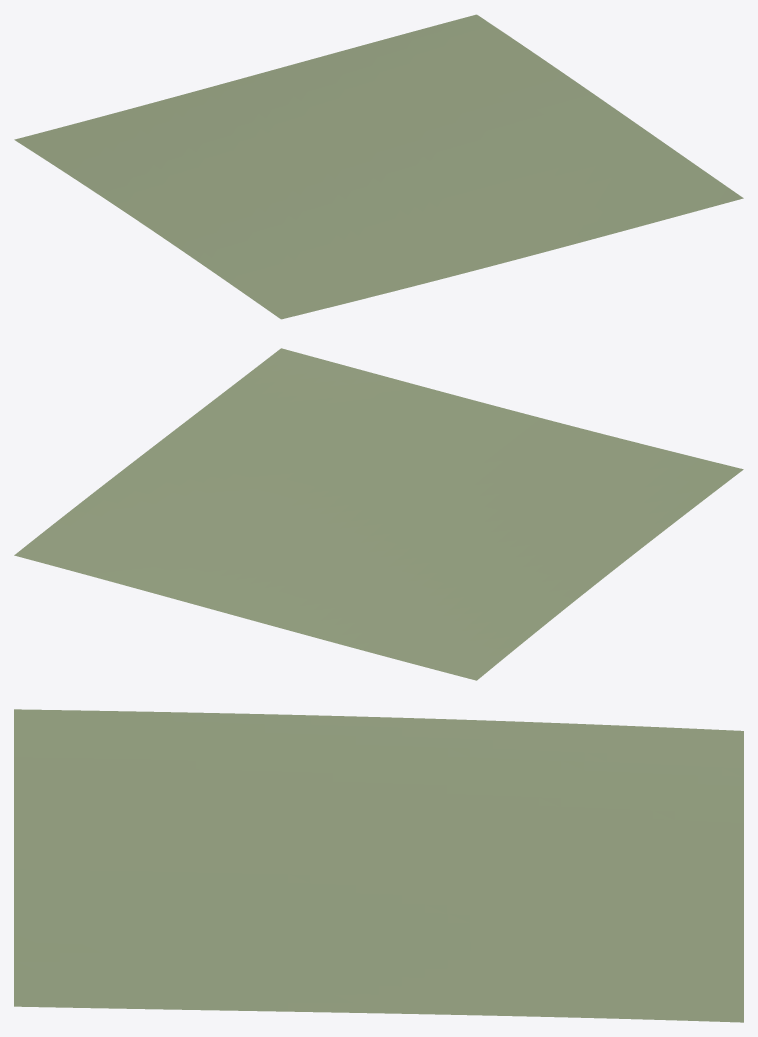
The model's file is expanse-27-0.glb.
3 renders of one model, top to bottom at view 1: azimuth 30°, elevation 25°; view 2: azimuth 150°, elevation 25°; view 3: azimuth 270°, elevation 25°, orthographic. The views are drawn at different scales.
Parts seen in each view (by area): view 1: expanse-27-0; view 2: expanse-27-0; view 3: expanse-27-0.
Part boxes in pixels (<box>): expanse-27-0: <box>14,14,743,319</box>; expanse-27-0: <box>14,348,743,680</box>; expanse-27-0: <box>14,709,743,1022</box>.
Bounding box in the file's own units: 256 × 12.7 × 256.
